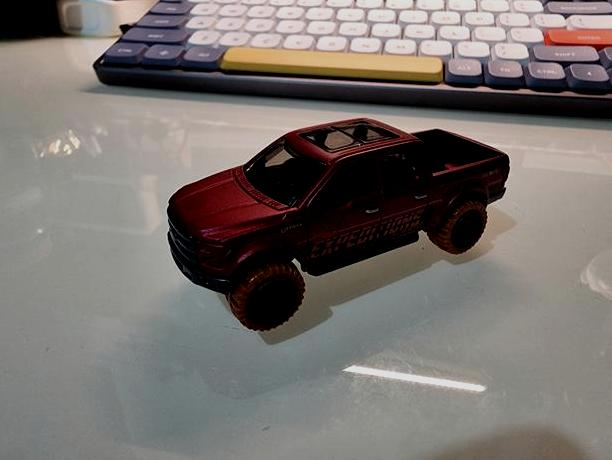toy-car: (166, 116, 510, 332)
